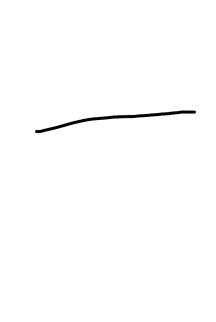Line: (32, 105, 197, 137)
